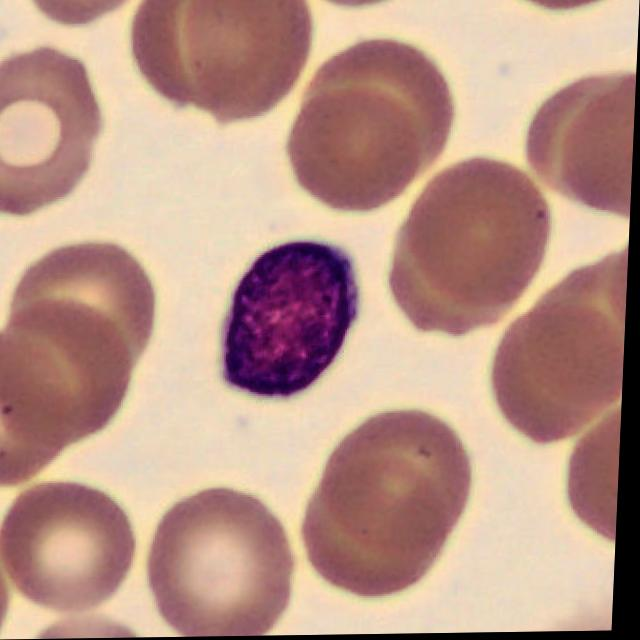Linfocito: (230, 244, 358, 395)
